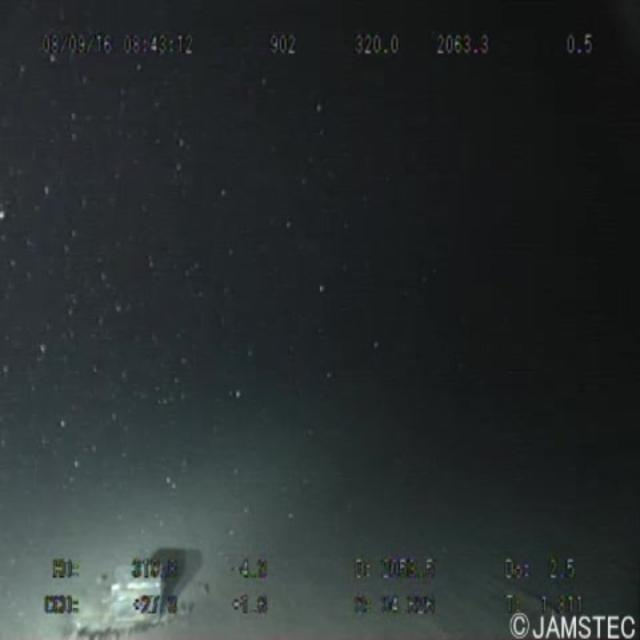Glass: (64, 527, 190, 640)
